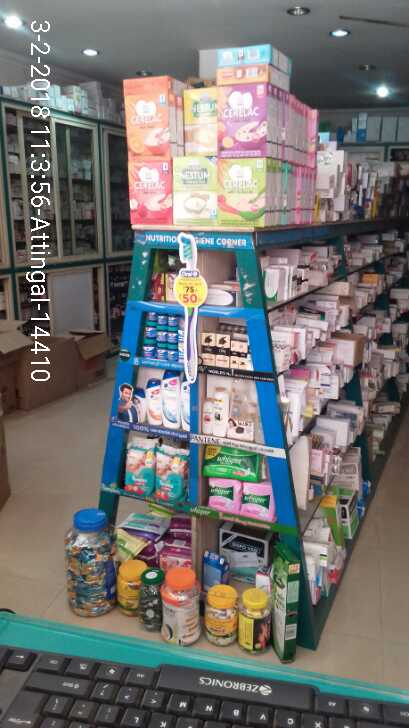vicks: (134, 307, 189, 365)
